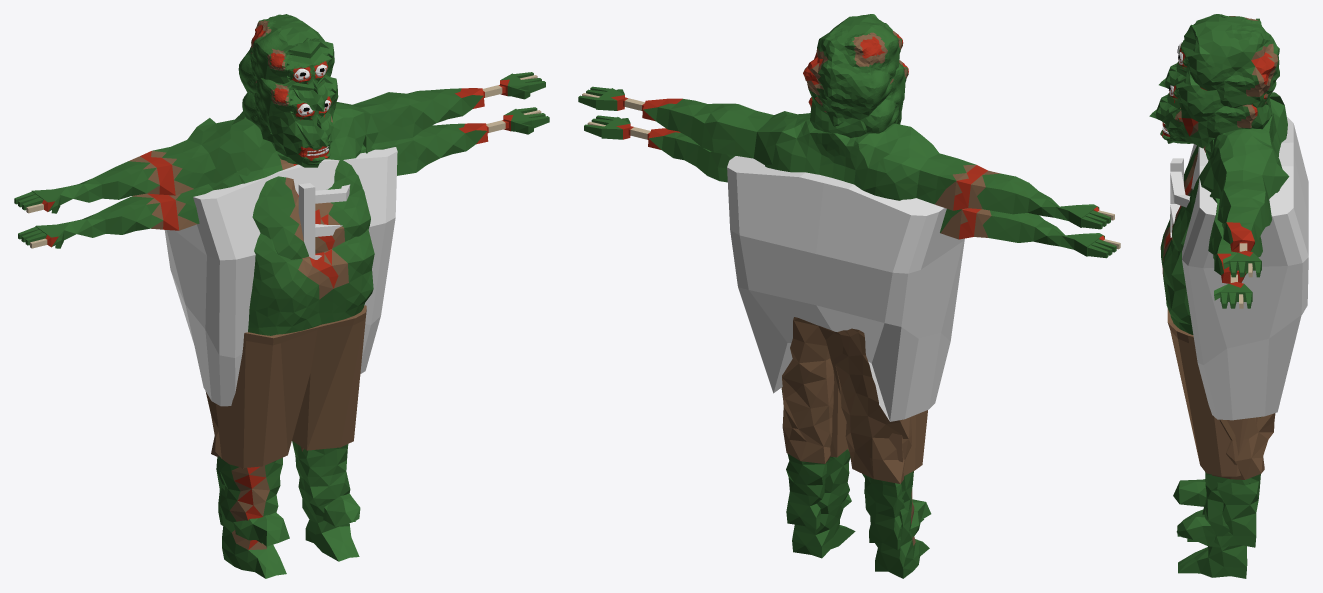
File: Zombie.fbx
The picture shows the model from 3 angles, left to right: view 1: azimuth 30°, elevation 25°; view 2: azimuth 150°, elevation 25°; view 3: azimuth 270°, elevation 25°; orthographic projection.
Visible parts, largest first — view 1: Body.001, Body.002, Body, Face.001, Body.003, Ribs; view 2: Body, Body.002, Body.001, Pant.001, Body.003, Face.001; view 3: Body, Body.001, Body.002, Body.003, Face.001, Pant.001, Ribs.
Part boxes in pixels (left/top/right/bottom): Body.001: left=18, top=74, right=549, bottom=578; Body.002: left=14, top=72, right=545, bottom=543; Body: left=164, top=147, right=397, bottom=406; Face.001: left=239, top=16, right=334, bottom=120; Body.003: left=214, top=14, right=507, bottom=546; Ribs: left=298, top=183, right=350, bottom=259; Body: left=727, top=156, right=964, bottom=421; Body.002: left=578, top=86, right=1114, bottom=549; Body.001: left=584, top=60, right=1120, bottom=578; Pant.001: left=782, top=317, right=911, bottom=483; Body.003: left=617, top=14, right=931, bottom=542; Face.001: left=812, top=14, right=903, bottom=111; Body: left=1182, top=117, right=1308, bottom=420; Body.001: left=1149, top=68, right=1270, bottom=578; Body.002: left=1170, top=18, right=1289, bottom=547; Body.003: left=1171, top=14, right=1279, bottom=547; Face.001: left=1159, top=14, right=1271, bottom=128; Pant.001: left=1212, top=413, right=1275, bottom=479; Ribs: left=1170, top=158, right=1190, bottom=237.
Size of the model in its own units: 499 by 486 by 132.
